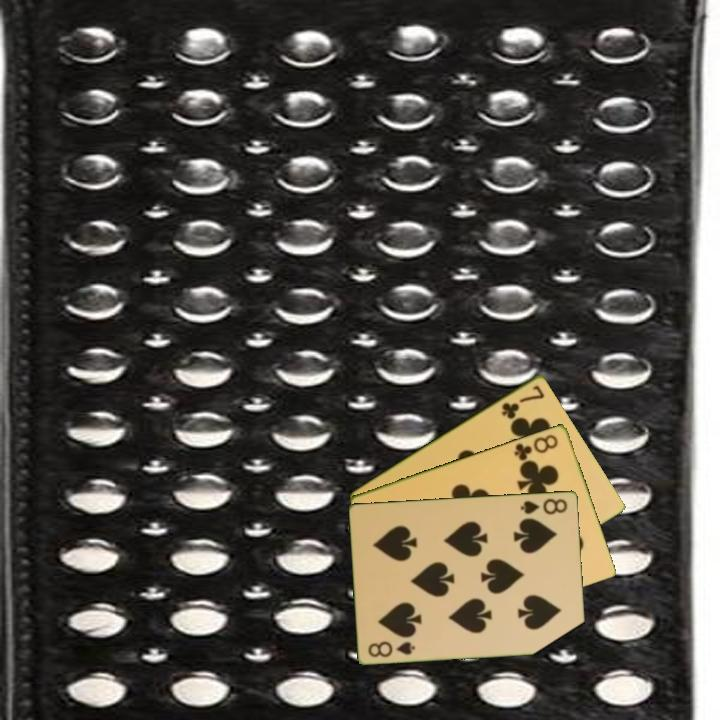7c: (498, 381, 547, 421)
8c: (510, 430, 561, 463)
8s: (365, 637, 418, 660), (517, 495, 571, 517)
